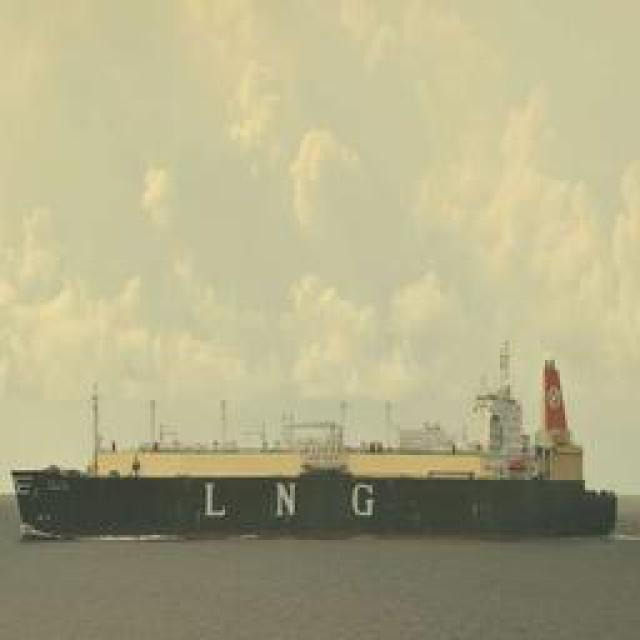Ship: (7, 329, 637, 550)
